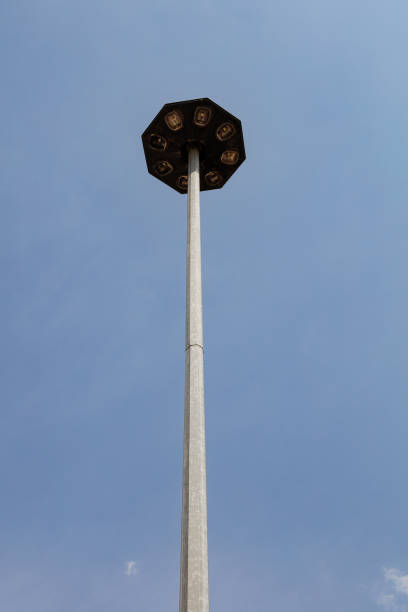light_pole: (171, 143, 215, 610)
